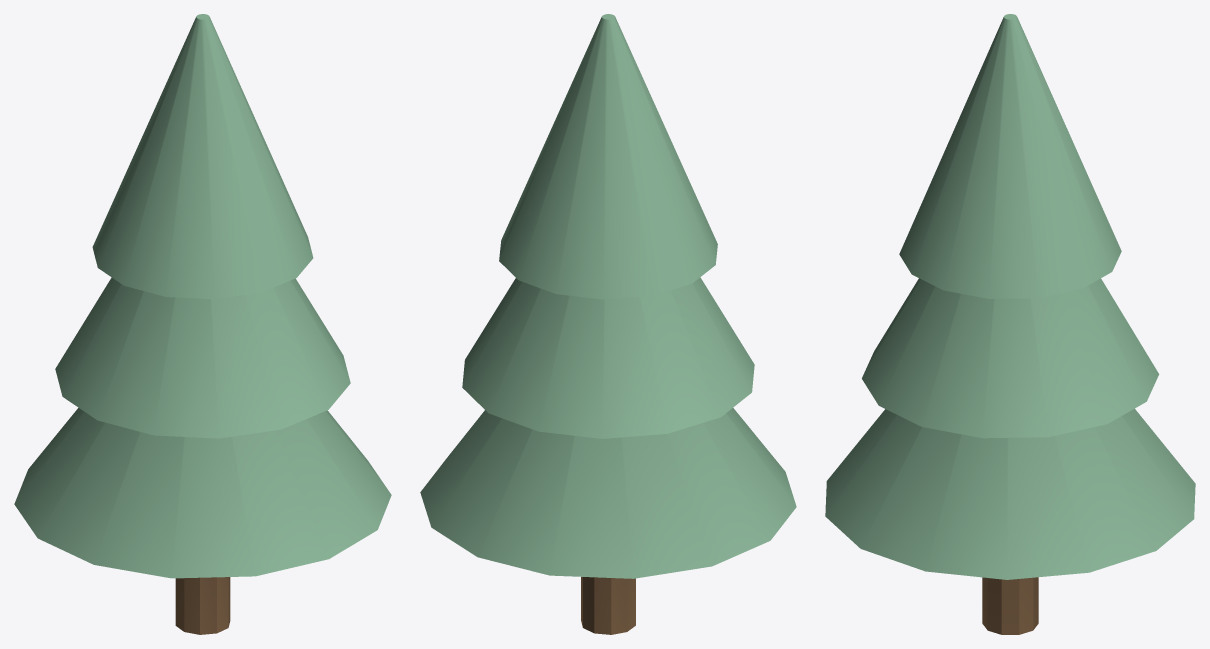
The model's file is pine-04.envelope.glb.
3 views of the same model, side by side, from view 1: azimuth 30°, elevation 25°; view 2: azimuth 150°, elevation 25°; view 3: azimuth 270°, elevation 25° (orthographic).
Parts seen in each view (by area): view 1: pine-04.foliage, pine-04.warm; view 2: pine-04.foliage, pine-04.warm; view 3: pine-04.foliage, pine-04.warm.
Boxes of the visible parts, left/top/right/bottom form: pine-04.foliage: left=14, top=14, right=391, bottom=578; pine-04.warm: left=175, top=577, right=230, bottom=634; pine-04.foliage: left=420, top=14, right=796, bottom=578; pine-04.warm: left=581, top=577, right=635, bottom=634; pine-04.foliage: left=825, top=14, right=1195, bottom=579; pine-04.warm: left=982, top=577, right=1038, bottom=634.
Bounding box in the file's own units: 0.6742 × 1.19 × 0.6599.
